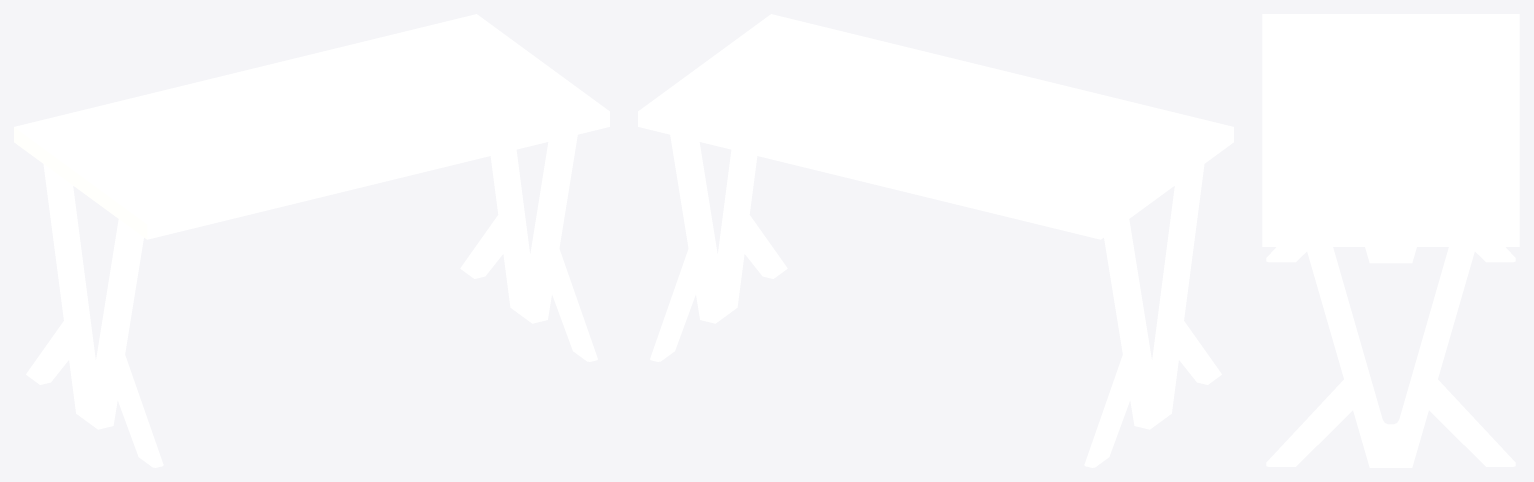
The model's file is Office_Assets_Dining_Table_Empty.glb.
3 views of the same model, side by side, from view 1: azimuth 30°, elevation 25°; view 2: azimuth 150°, elevation 25°; view 3: azimuth 270°, elevation 25° (orthographic). The views are drawn at different scales.
Parts seen in each view (by area): view 1: Dining_Table_Empty; view 2: Dining_Table_Empty; view 3: Dining_Table_Empty.
Part boxes in pixels (x1,y1,x2,y2): Dining_Table_Empty: (14, 14, 609, 467); Dining_Table_Empty: (638, 14, 1233, 467); Dining_Table_Empty: (1262, 14, 1519, 467).
Bounding box in the file's own units: 1.99 × 1.02 × 0.9928.
